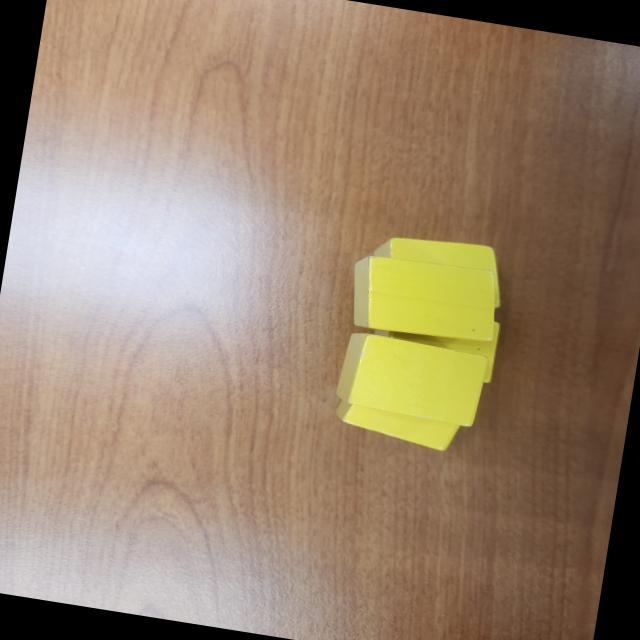yellow: (344, 248, 506, 349), (332, 330, 487, 430), (364, 227, 512, 314), (367, 302, 504, 385), (331, 398, 464, 456)
